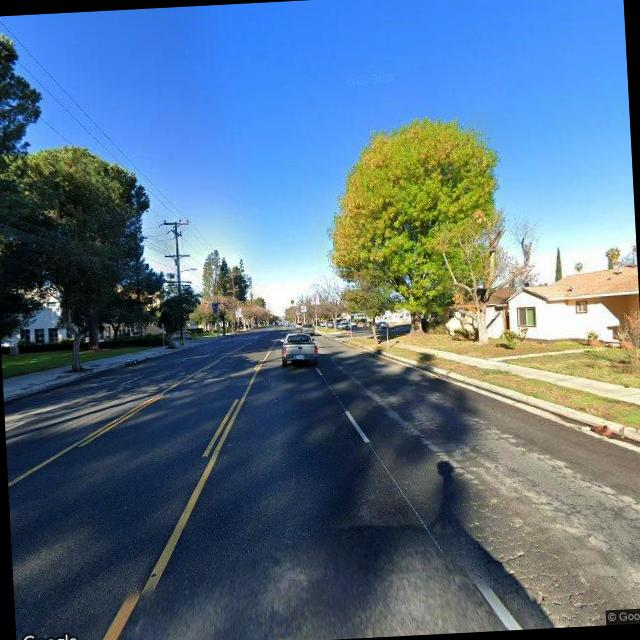crack: (460, 489, 598, 632)
